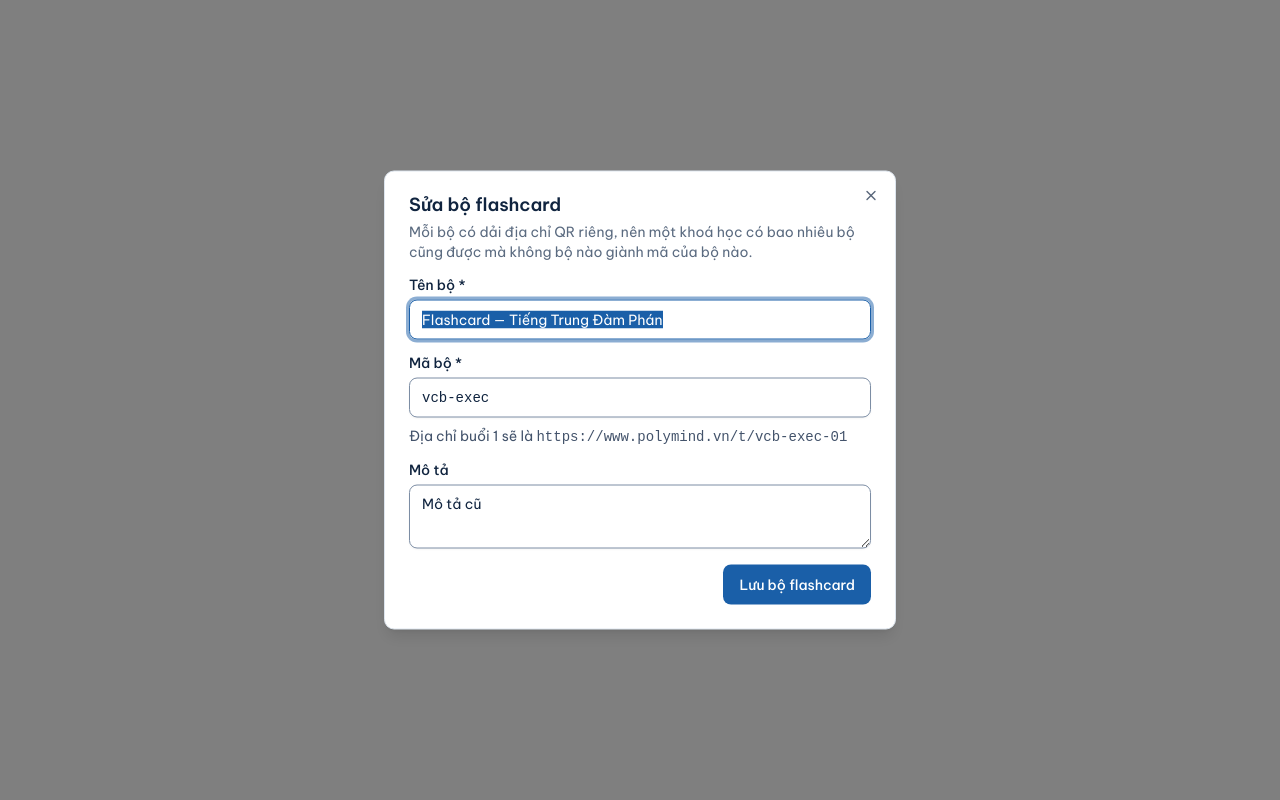
Test: FlashcardDeckDialog › đang gõ dở (còn dấu gạch cuối) thì địa chỉ xem trước vẫn là địa chỉ THẬT
Clear the field labelled "Mã bộ *" at x=640, y=398, box [409,378,871,418]
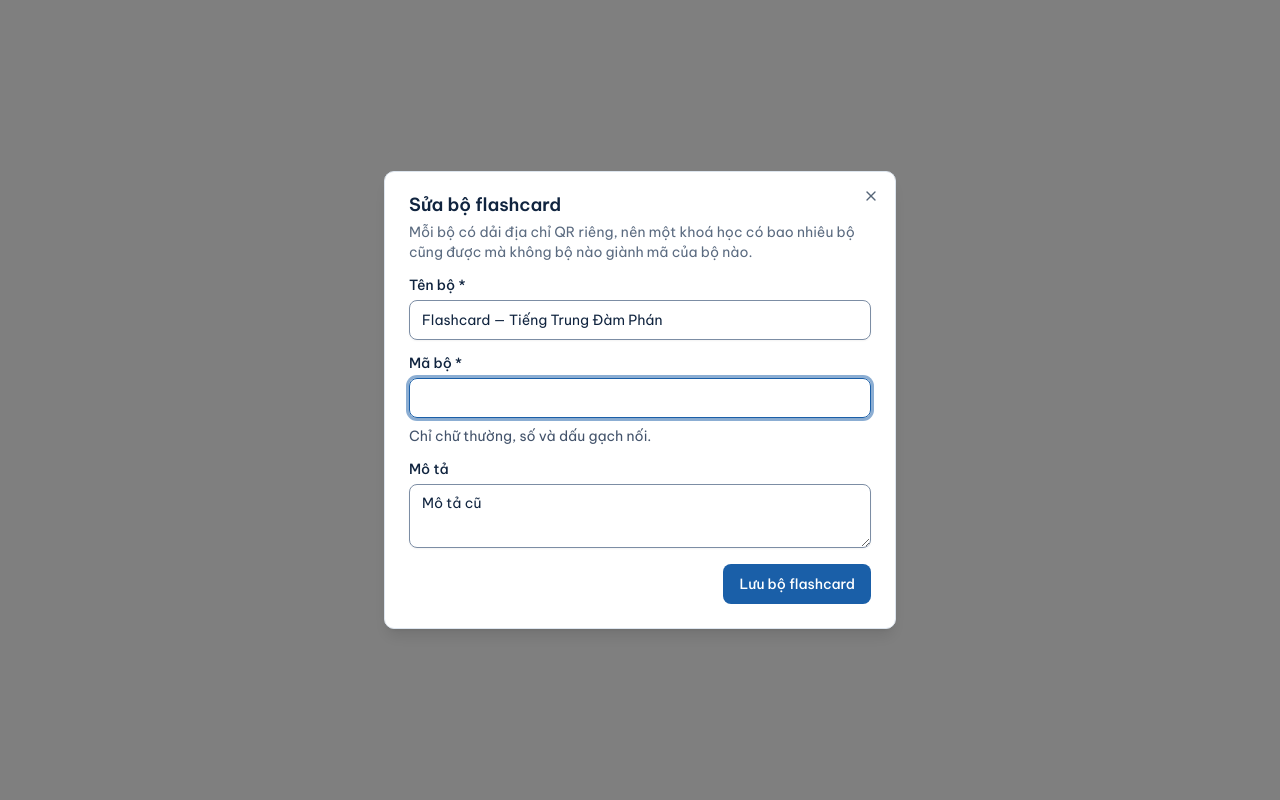
Type "vcb-" into the field labelled "Mã bộ *" at x=640, y=398, box [409,378,871,418]
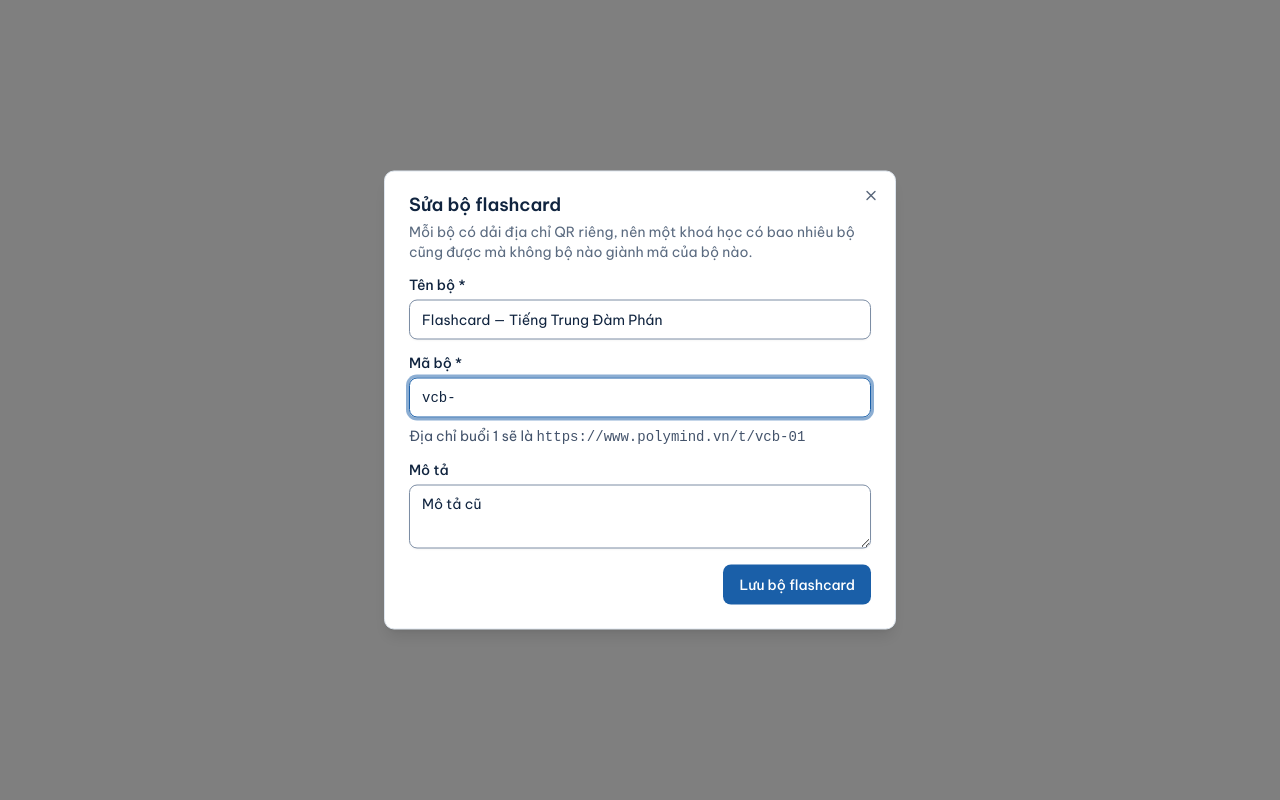
Expected: the text "https://www.polymind.vn/t/vcb-01" is shown, [536,428,805,444]
